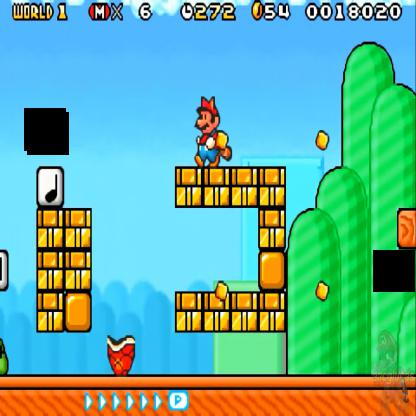Mario: (189, 93, 230, 165)
caparazon: (102, 329, 140, 377)
moneda: (250, 0, 265, 26)
